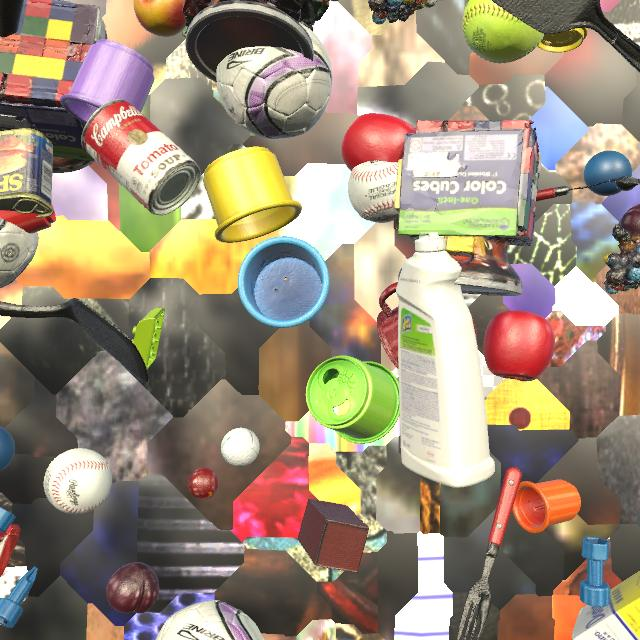ycb_004_sugar_box: (572, 571, 640, 640)
ycb_005_tomato_soup_can: (81, 99, 201, 215)
ycb_010_potted_meat_can: (0, 128, 54, 218)
ycb_013_apple: (483, 310, 555, 381), (341, 113, 416, 171)
ycb_015_peach: (133, 0, 187, 37)
ycb_018_plum: (106, 562, 159, 613), (619, 204, 640, 235)
